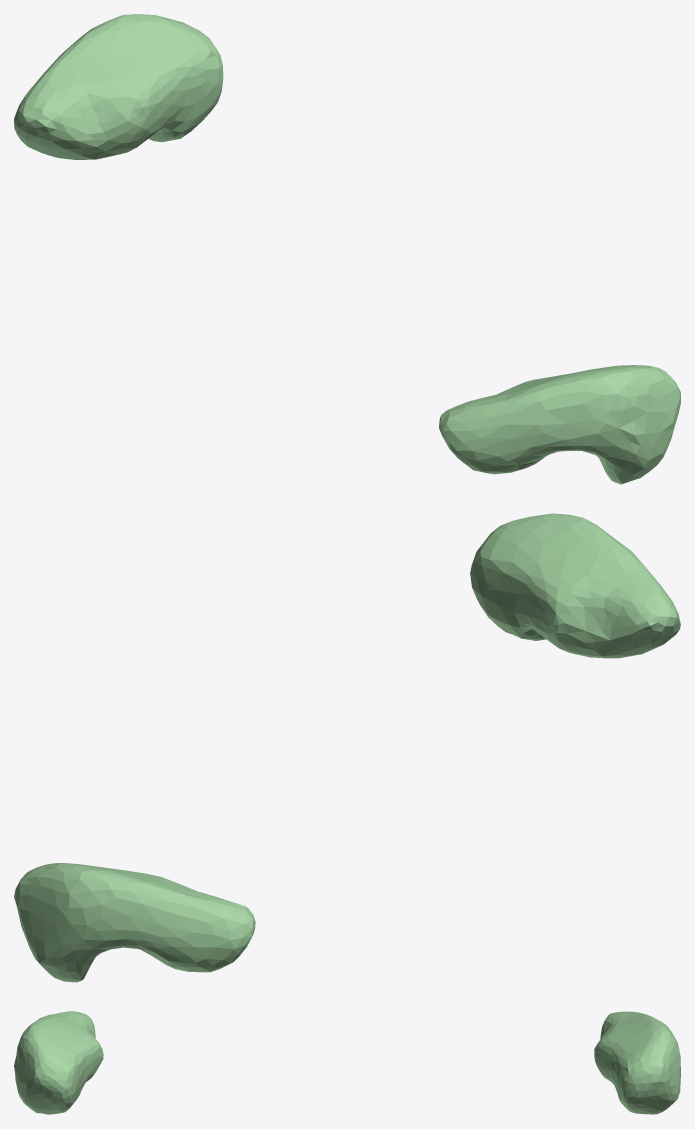
3 views of the same model, one above another, from view 1: azimuth 30°, elevation 25°; view 2: azimuth 150°, elevation 25°; view 3: azimuth 270°, elevation 25° (orthographic). The views are drawn at different scales.
Parts seen in each view (by area): view 1: 327.obj; view 2: 327.obj; view 3: 327.obj.
Boxes of the visible parts, <box> form: 327.obj: <box>14,14,680,484</box>; 327.obj: <box>14,513,680,982</box>; 327.obj: <box>14,1011,680,1114</box>.
Size of the model in its own units: 1471 by 794 by 6101.
